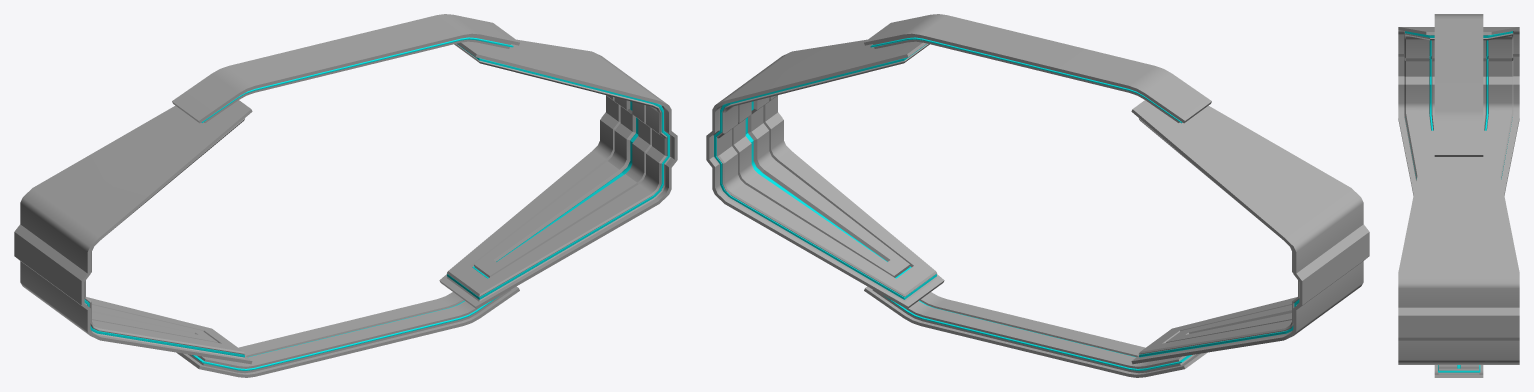
The model's file is Panel_Module.fbx.
3 views of the same model, side by side, from view 1: azimuth 30°, elevation 25°; view 2: azimuth 150°, elevation 25°; view 3: azimuth 270°, elevation 25° (orthographic). The views are drawn at different scales.
Visible parts, largest first — view 1: mesh_panel_module; view 2: mesh_panel_module; view 3: mesh_panel_module.
Part boxes in pixels (x1,y1,x2,y2): mesh_panel_module: (14,14,677,377); mesh_panel_module: (706,14,1369,377); mesh_panel_module: (1398,14,1519,377).
Size of the model in its own units: 1020 by 476 by 200.
